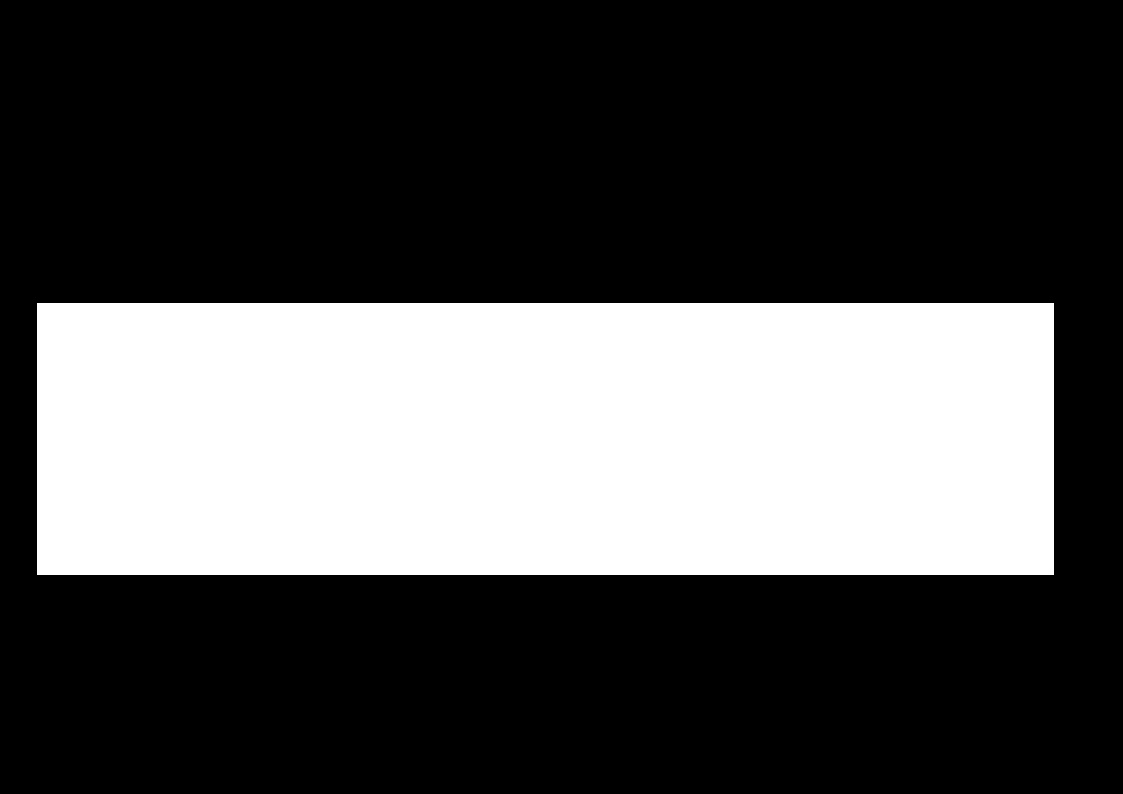table: (37, 303, 1053, 574)
